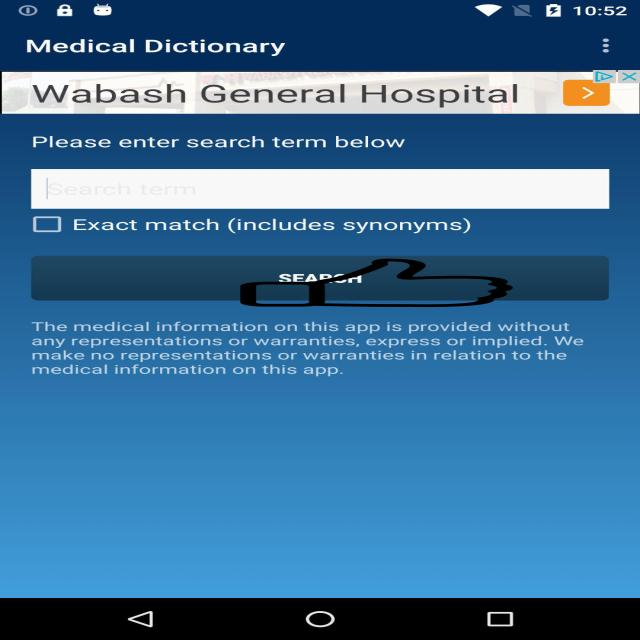privacy zuckering: (236, 259, 517, 307)
